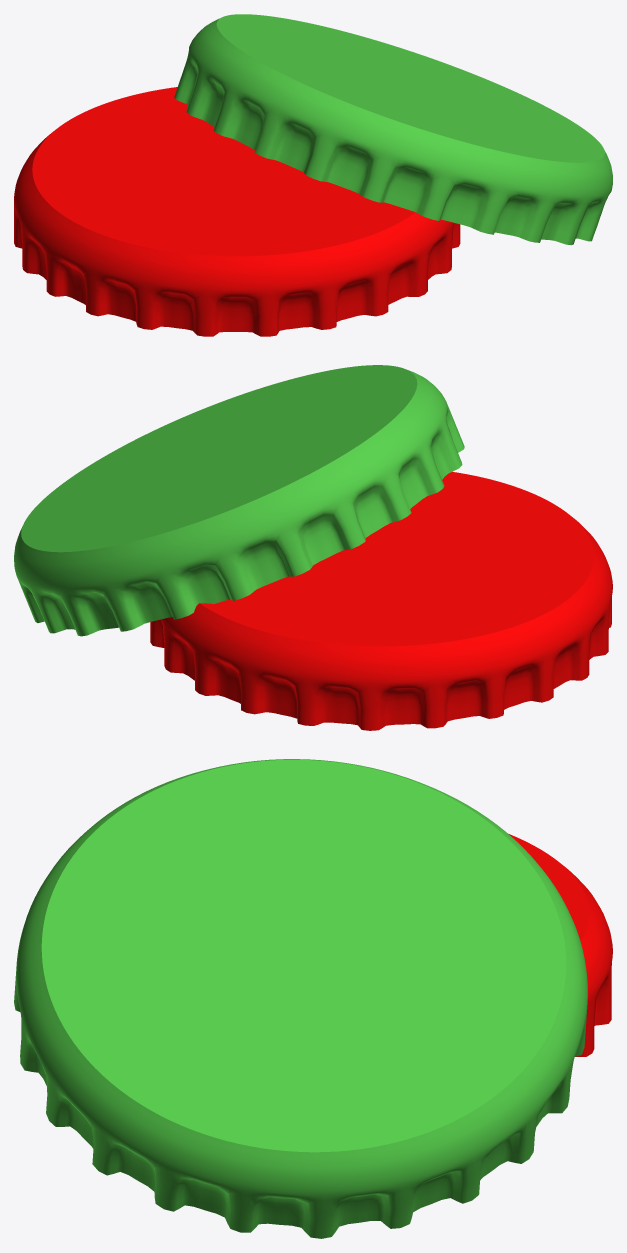
File: Bottle Cap 1.fbx
The picture shows the model from 3 angles, top to bottom: view 1: azimuth 30°, elevation 25°; view 2: azimuth 150°, elevation 25°; view 3: azimuth 270°, elevation 25°; orthographic projection. The views are drawn at different scales.
Visible parts, largest first — view 1: Bottle_Cap, Empty_Mesh; view 2: Bottle_Cap, Empty_Mesh; view 3: Empty_Mesh, Bottle_Cap.
Part boxes in pixels (<box>): Bottle_Cap: <box>14,87,460,336</box>; Empty_Mesh: <box>174,14,612,245</box>; Bottle_Cap: <box>150,472,612,730</box>; Empty_Mesh: <box>14,365,464,636</box>; Empty_Mesh: <box>14,759,587,1238</box>; Bottle_Cap: <box>509,834,612,1056</box>.
Bounding box in the file's own units: 17.71 × 7.14 × 13.62.
